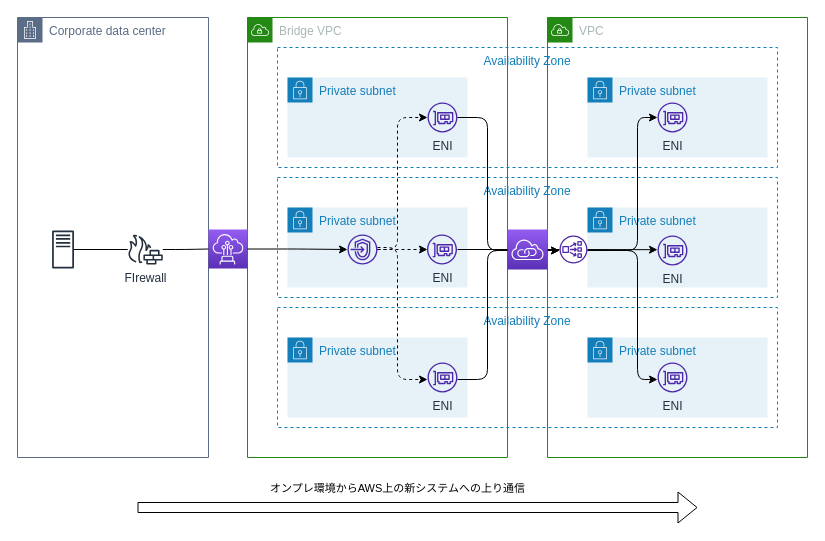
Some shapes in this 825 by 541 pixel diagram are drawn without their labels. Here are the shapes that lost their labels. From the top down, the centre of each, then its label:
At (x=63, y=249): "On-premise".
At (x=228, y=248): "DirectConnect".
At (x=362, y=249): "VPC Endpoint".
At (x=527, y=249): "PrivateLink".
At (x=573, y=249): "NLB".
